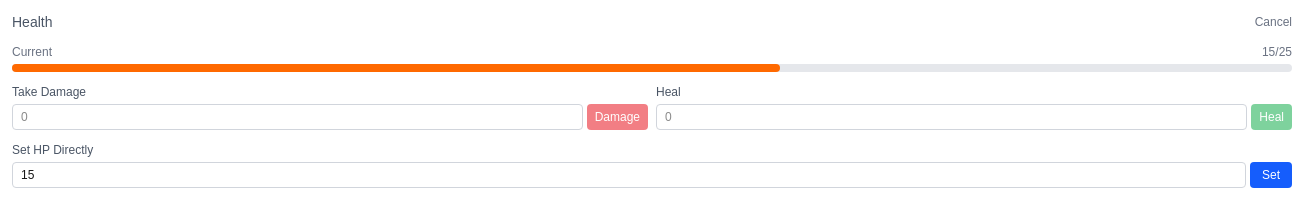
HPEditor › Edit Mode › shows loading state during HP change operations
This screenshot has width=1304, height=205.
In the number field with placeholder "0" below "Take Damage": (297, 117) x1=12 y1=104 x2=583 y2=130, type "5"
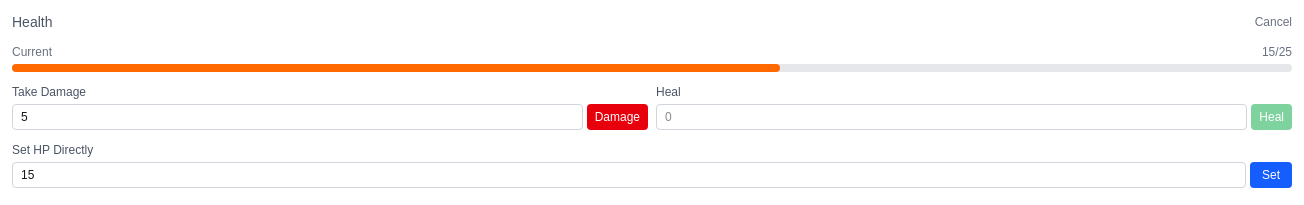
Click the button "Damage": (617, 117) x1=587 y1=104 x2=648 y2=130
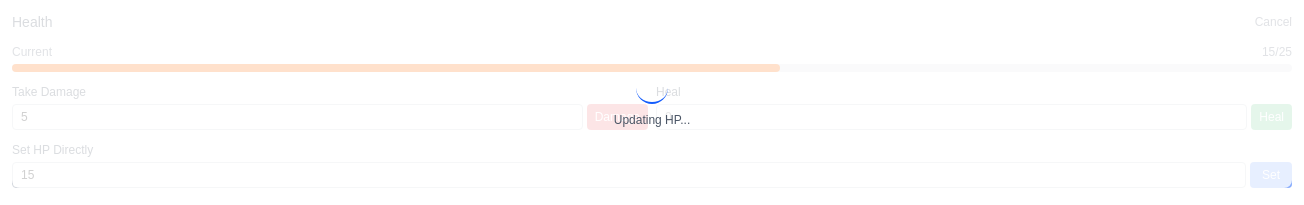
Expected: the text "Updating HP..." is shown, x1=614 y1=112 x2=690 y2=128
